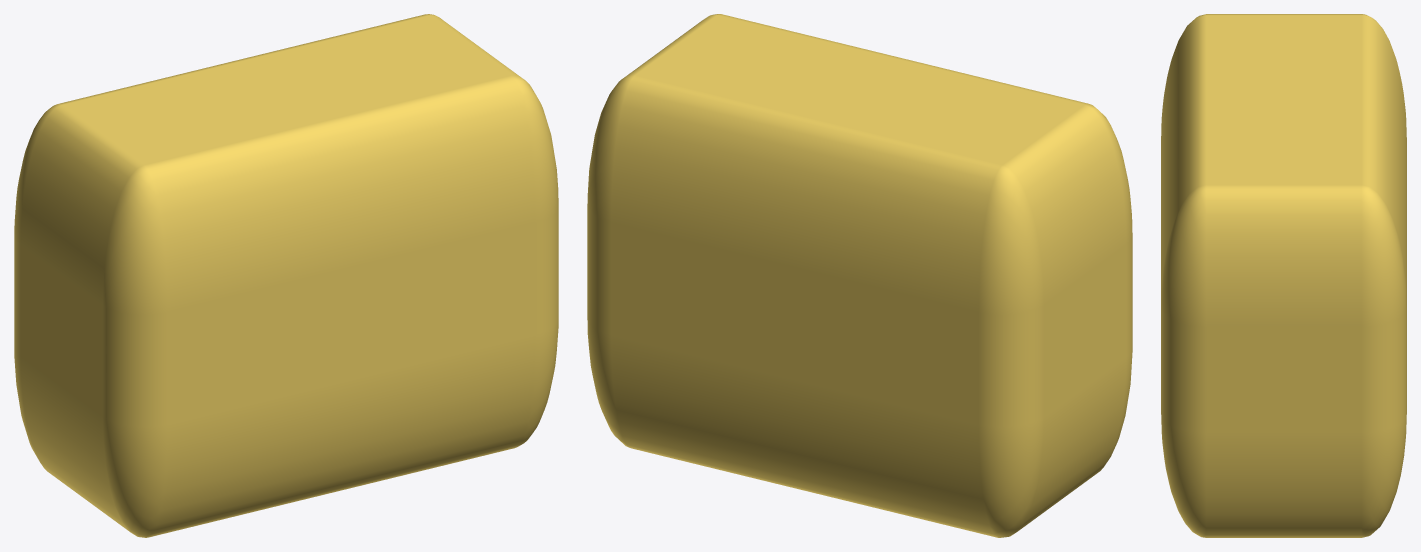
File: tankSet1_stainlessSteel_2.dae
3 views of the same model, side by side, from view 1: azimuth 30°, elevation 25°; view 2: azimuth 150°, elevation 25°; view 3: azimuth 270°, elevation 25° (orthographic). The views are drawn at different scales.
Parts seen in each view (by area): view 1: tankSet1_stainlessSteel_2; view 2: tankSet1_stainlessSteel_2; view 3: tankSet1_stainlessSteel_2.
Boxes of the visible parts, x1,y1,x2,y2 form: tankSet1_stainlessSteel_2: (14, 14, 558, 537); tankSet1_stainlessSteel_2: (587, 14, 1132, 537); tankSet1_stainlessSteel_2: (1161, 14, 1406, 537).
Bounding box in the file's own units: 3.8 × 1.9 × 3.
